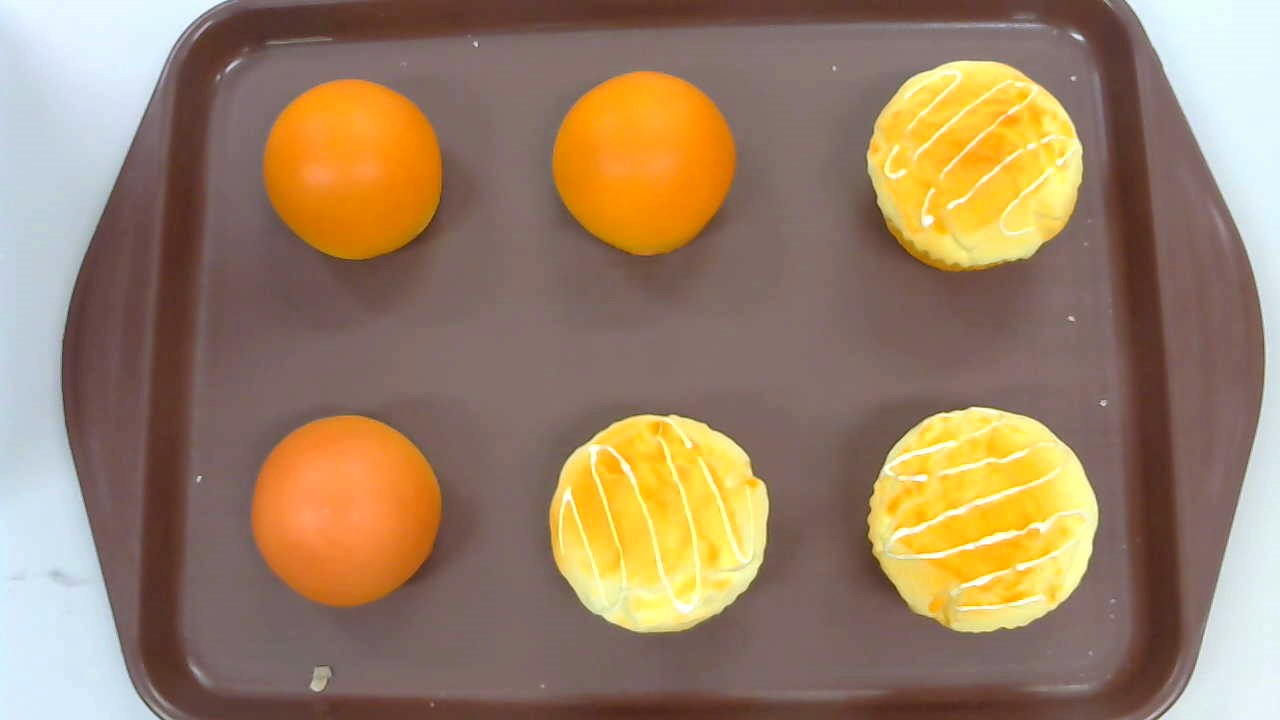bun: (251, 414, 441, 609), (552, 70, 736, 257), (263, 75, 443, 260)
cupcake: (867, 406, 1100, 634), (549, 413, 769, 634), (865, 60, 1083, 273)
